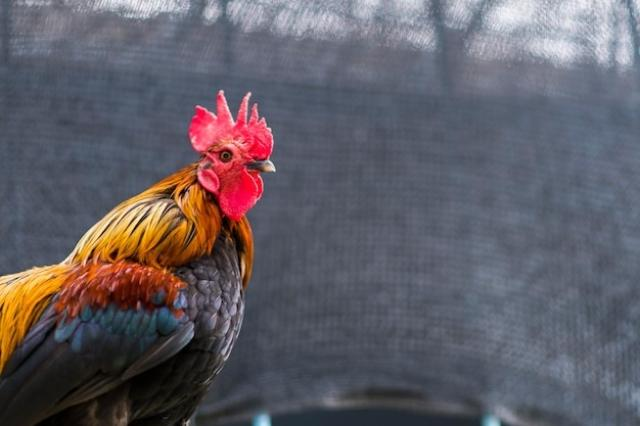Chicken: (0, 87, 275, 426)
